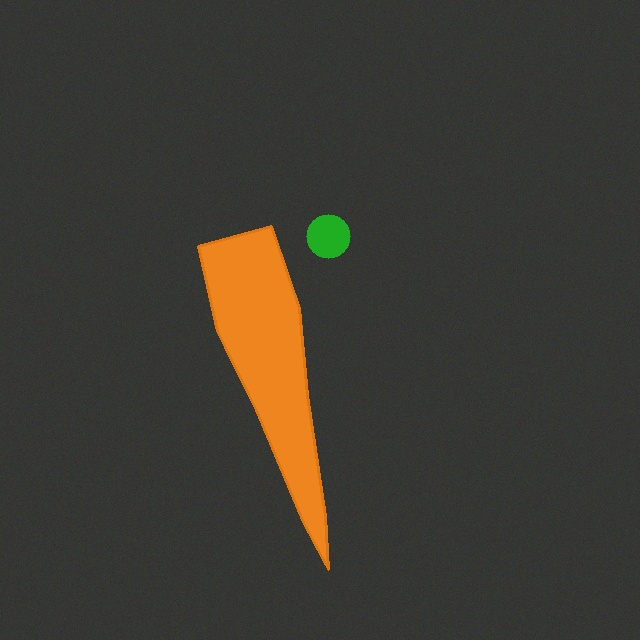Good_Carrot: (190, 218, 336, 577)
